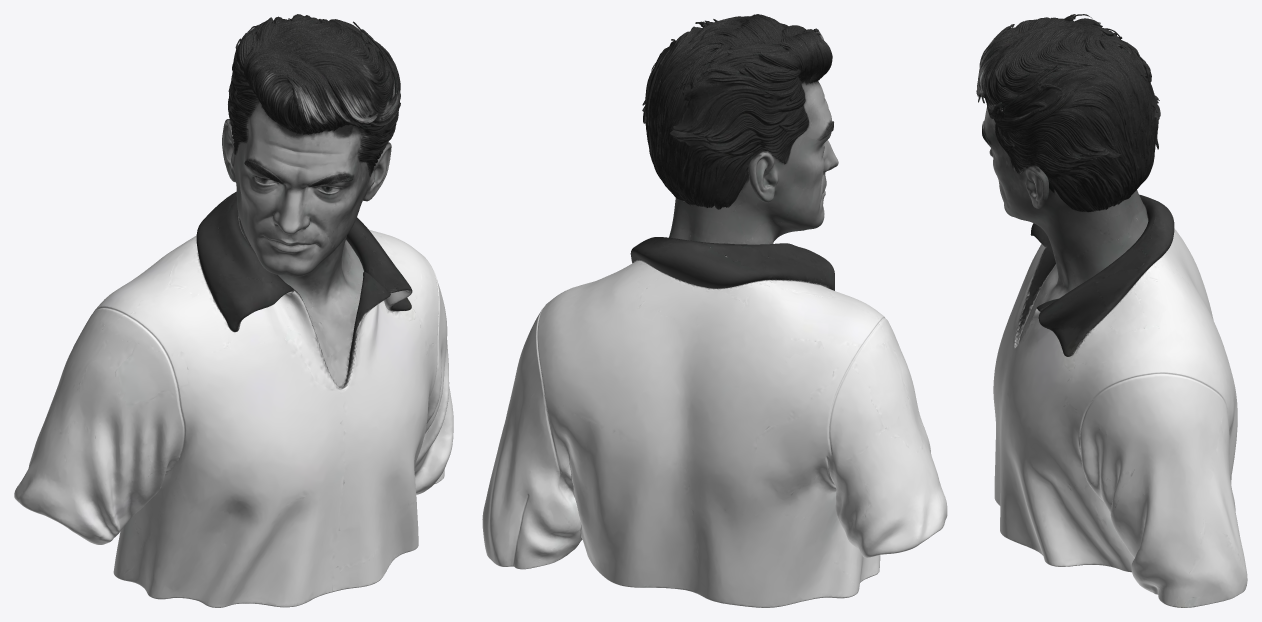
3 renders of one model, left to right at view 1: azimuth 30°, elevation 25°; view 2: azimuth 150°, elevation 25°; view 3: azimuth 270°, elevation 25°, orthographic. The views are drawn at different scales.
Bounding box in the file's own units: 1.65 × 1.9 × 0.9581.
Materials: 1 (1 with a texture image).
